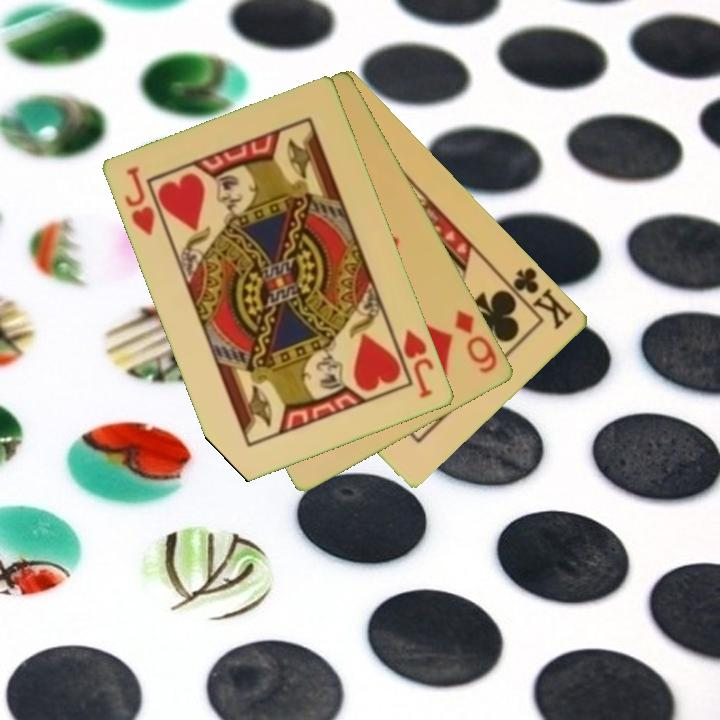6d: (451, 306, 501, 377)
Jh: (121, 163, 159, 239), (400, 326, 437, 401)
Kc: (501, 264, 576, 333)
